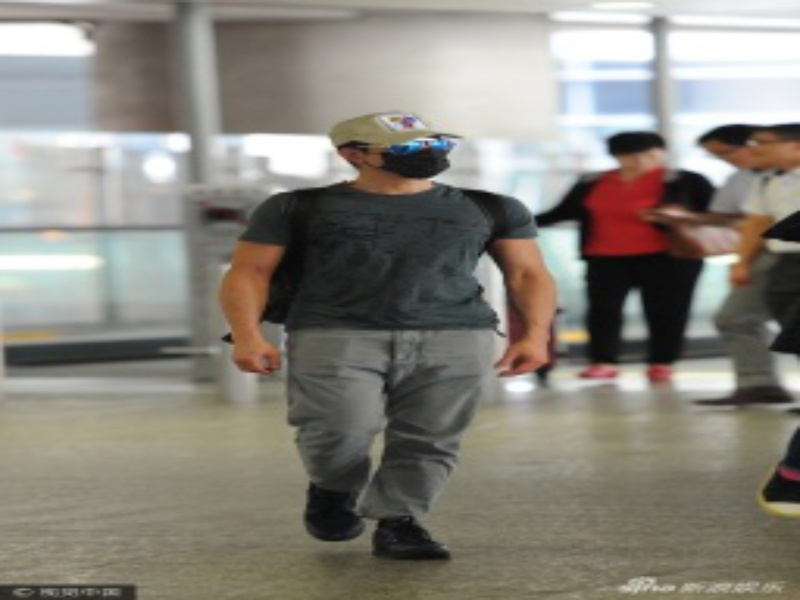ManaoArotava: (332, 100, 471, 206)
